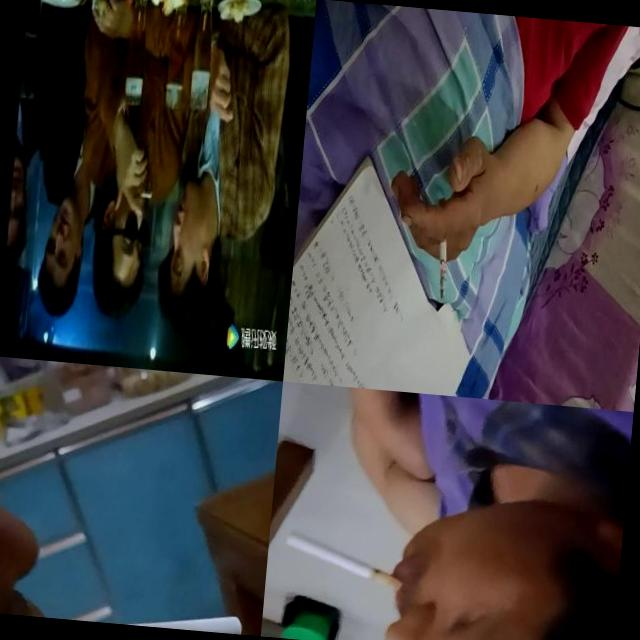cigarette: (284, 531, 406, 590), (47, 598, 244, 634), (429, 196, 454, 301), (139, 188, 153, 202)
